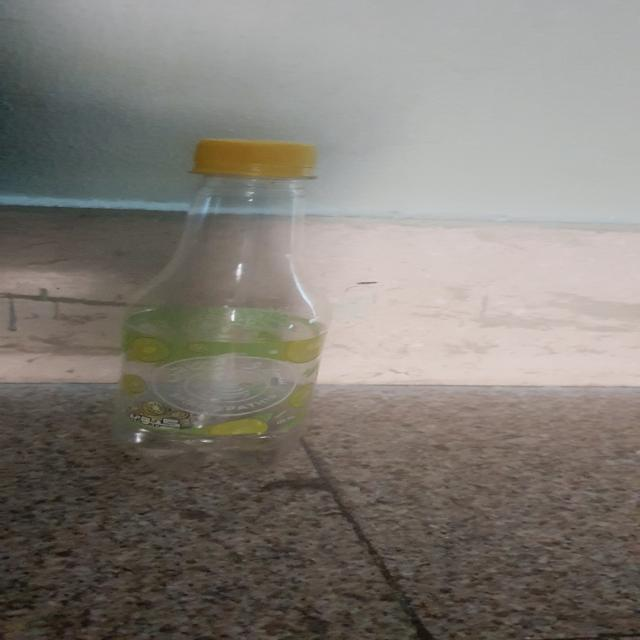plastic: (108, 138, 330, 469)
